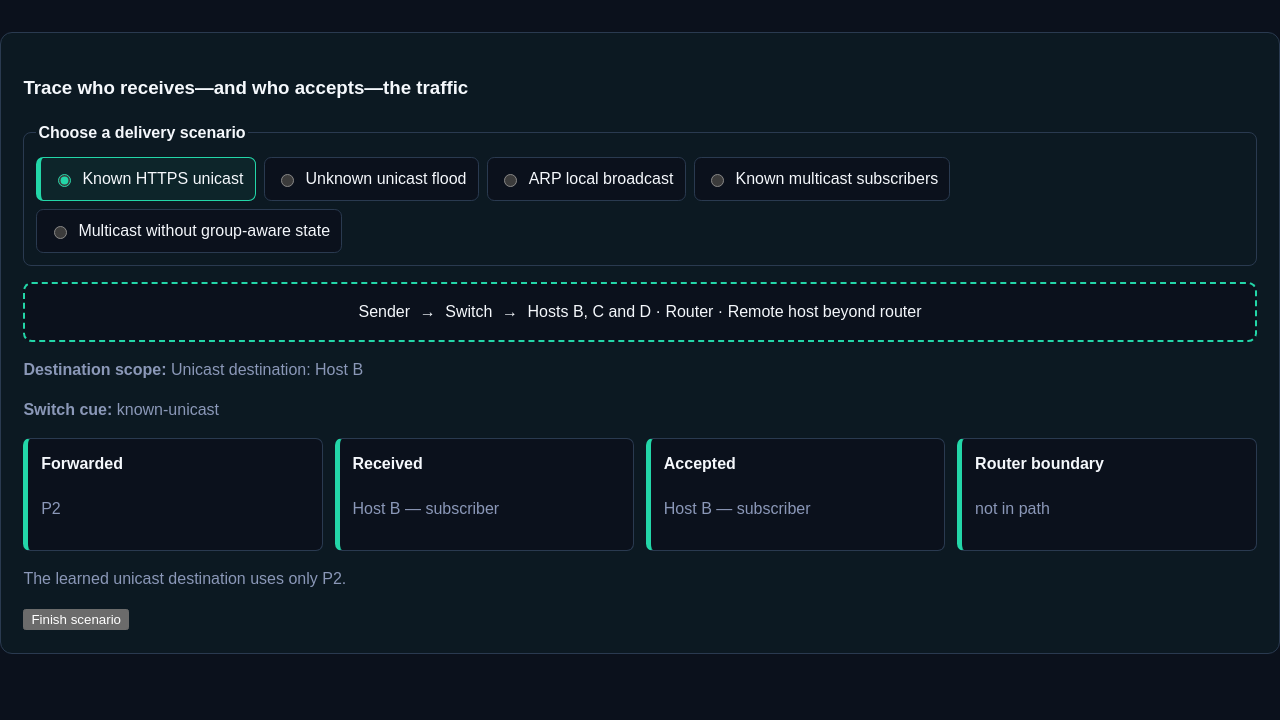
Test case: DeliveryScopePlayer › distinguishes subscribers from non-subscribers with and without group-aware state
Click the radio button labelled "Multicast without group-aware state" at (60, 232), box [54, 226, 67, 239]
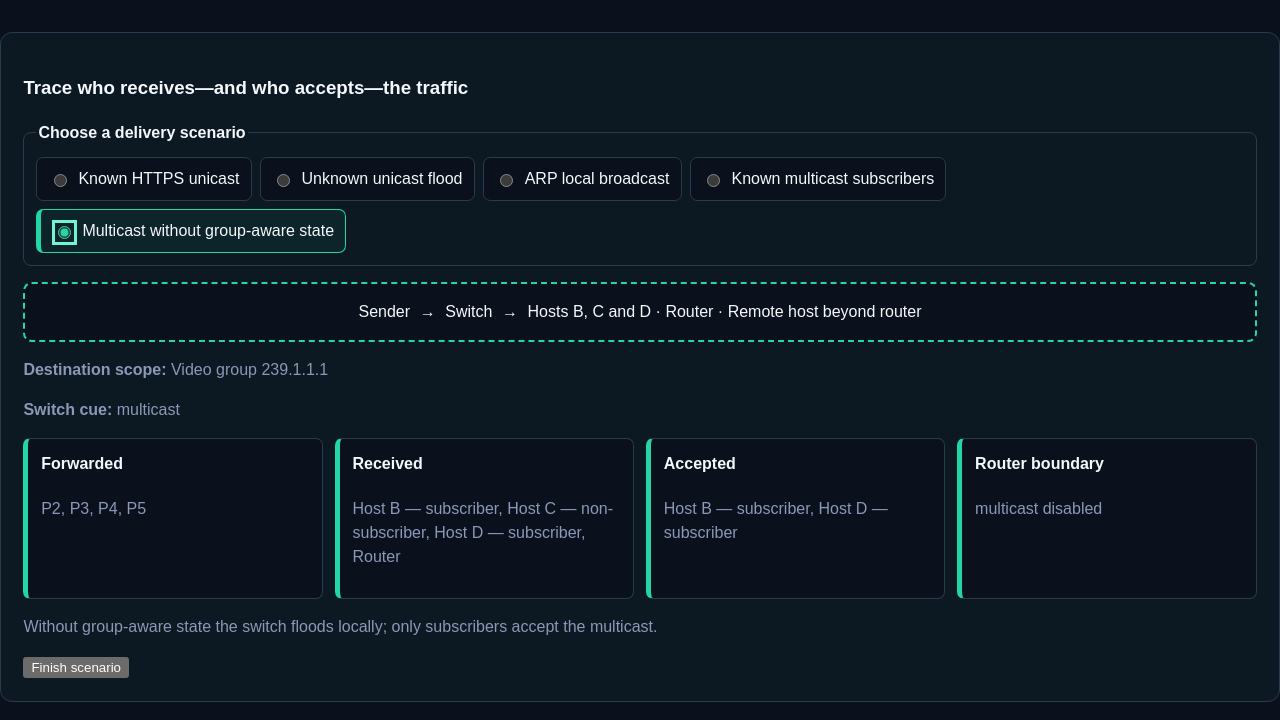
expect the text "non-subscriber" is shown: met, box [352, 500, 613, 565]
Click the radio button labelled "Known multicast subscribers" at (713, 180), box [707, 174, 720, 187]
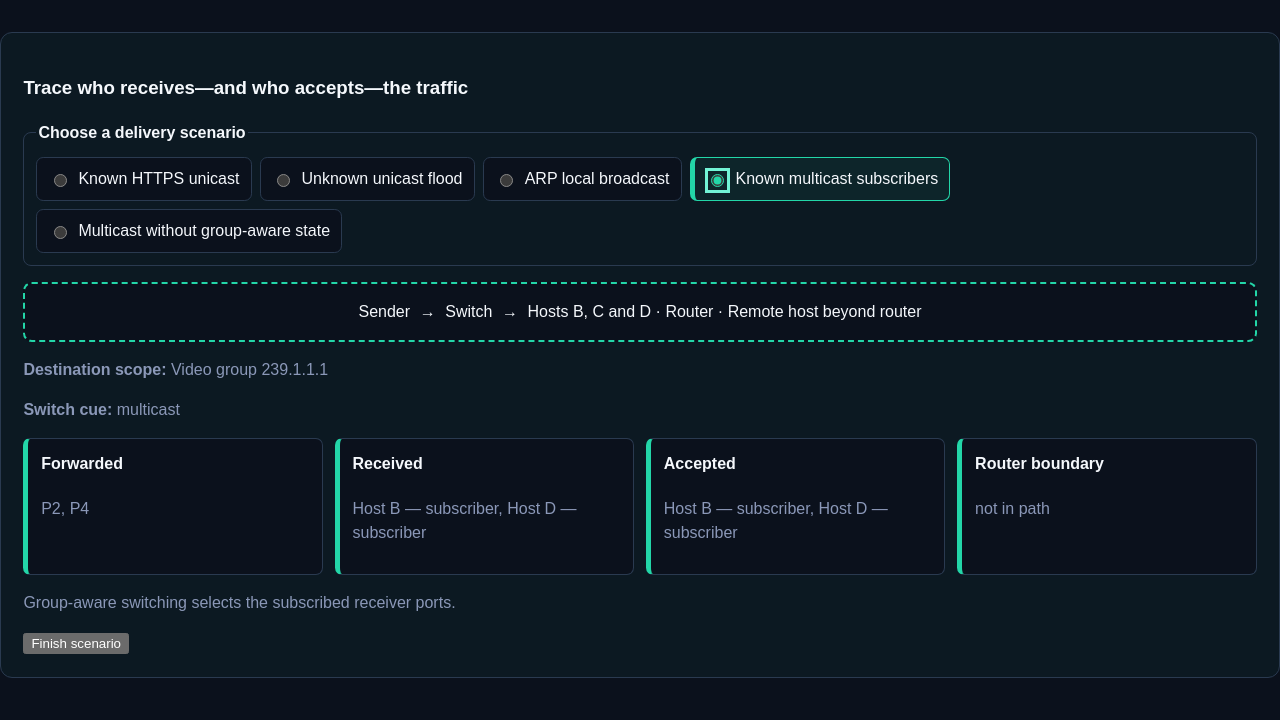
expect the text "non-subscriber" is gone: met
